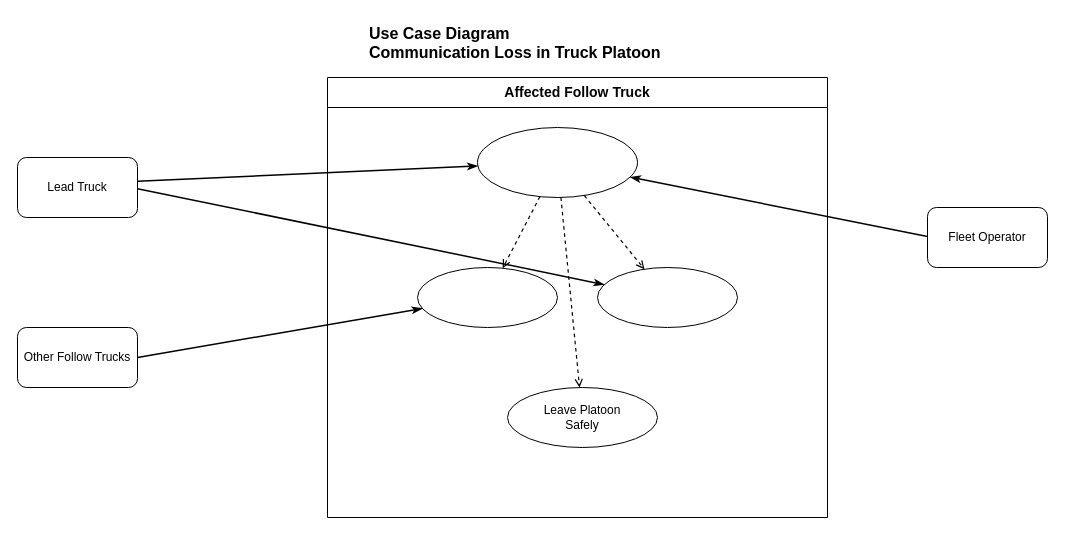
The diagram is 1065 pixels wide and 535 high, and some of its shapes have lost their labels. Each missing label, with the centre of its shape:
"Handle Communication Loss" belongs at (x=557, y=162).
"Notify Platoon" belongs at (x=487, y=297).
"Request Rejoin" belongs at (x=667, y=297).
